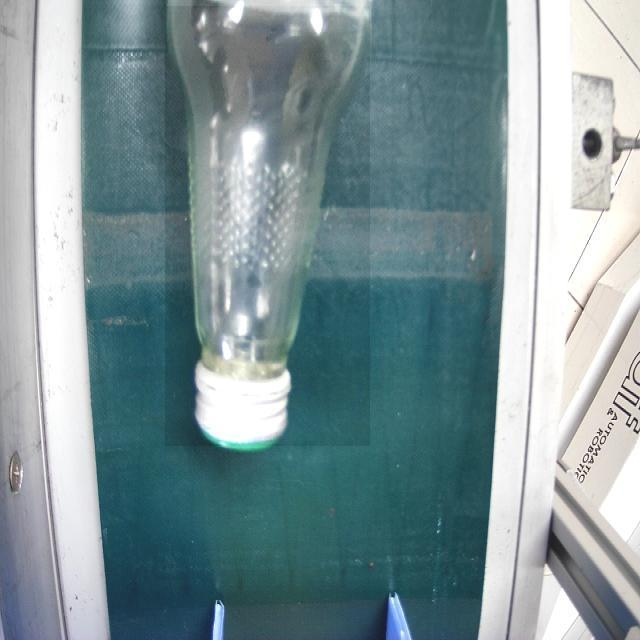BotolKaca: (164, 0, 373, 451)
